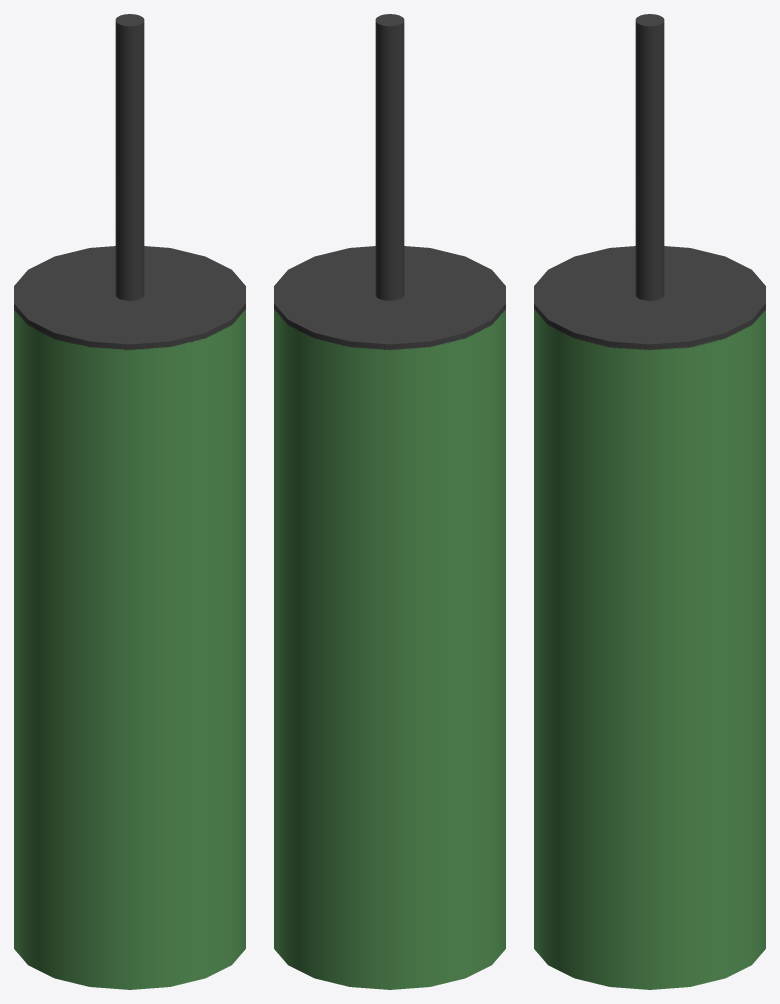
Rendered from Escobilla.fbx.
3 renders of one model, left to right at view 1: azimuth 30°, elevation 25°; view 2: azimuth 150°, elevation 25°; view 3: azimuth 270°, elevation 25°, orthographic.
Visible parts, largest first — view 1: Cylinder001, Cylinder002, Cylinder003; view 2: Cylinder001, Cylinder002, Cylinder003; view 3: Cylinder001, Cylinder002, Cylinder003.
Part boxes in pixels (x1,y1,x2,y2): Cylinder001: [14, 309, 245, 989]; Cylinder002: [14, 246, 245, 350]; Cylinder003: [115, 14, 144, 300]; Cylinder001: [274, 309, 505, 989]; Cylinder002: [274, 246, 505, 350]; Cylinder003: [375, 14, 404, 300]; Cylinder001: [534, 309, 765, 989]; Cylinder002: [534, 246, 765, 350]; Cylinder003: [635, 14, 664, 300].
Size of the model in its own units: 3.94 by 16.98 by 3.88.
